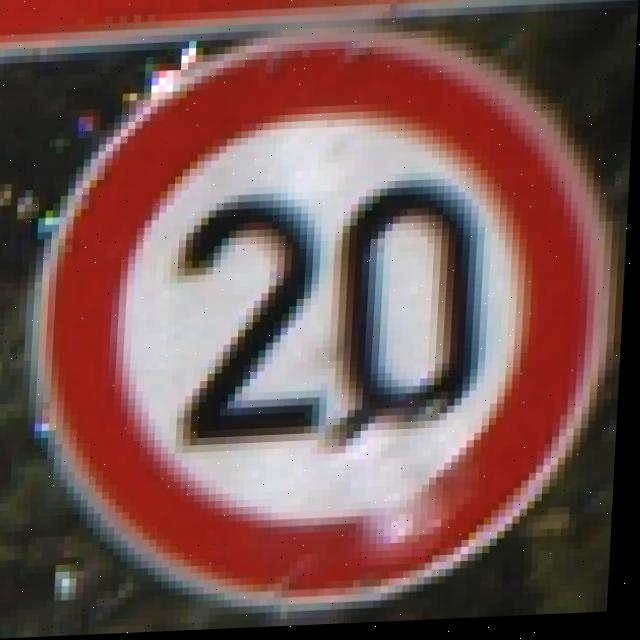speed_limit_20: (10, 22, 636, 618)
